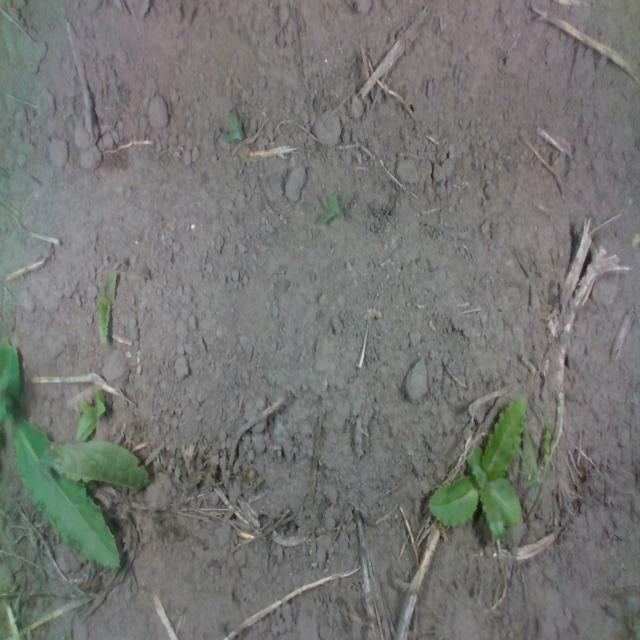weed: (96, 267, 118, 345), (320, 187, 347, 225)
